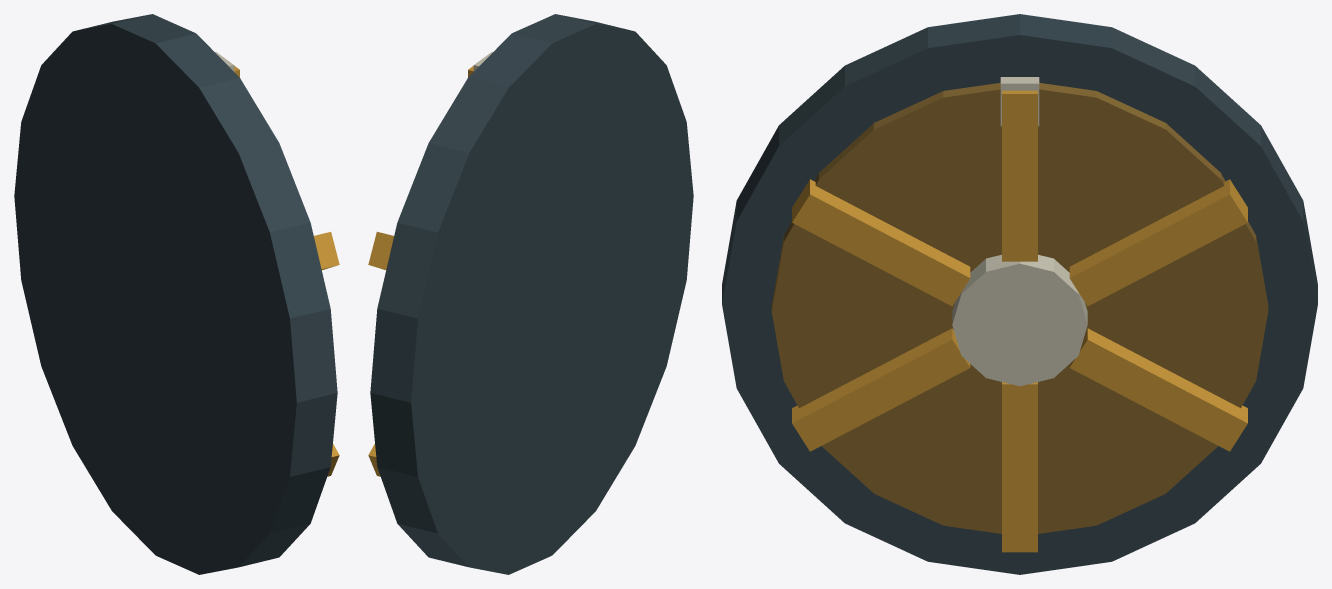
File: crusher-drive.glb
The picture shows the model from 3 angles, left to right: view 1: azimuth 30°, elevation 25°; view 2: azimuth 150°, elevation 25°; view 3: azimuth 270°, elevation 25°; orthographic projection. The views are drawn at different scales.
Size of the model in its own units: 0.43 by 2.64 by 2.64.
